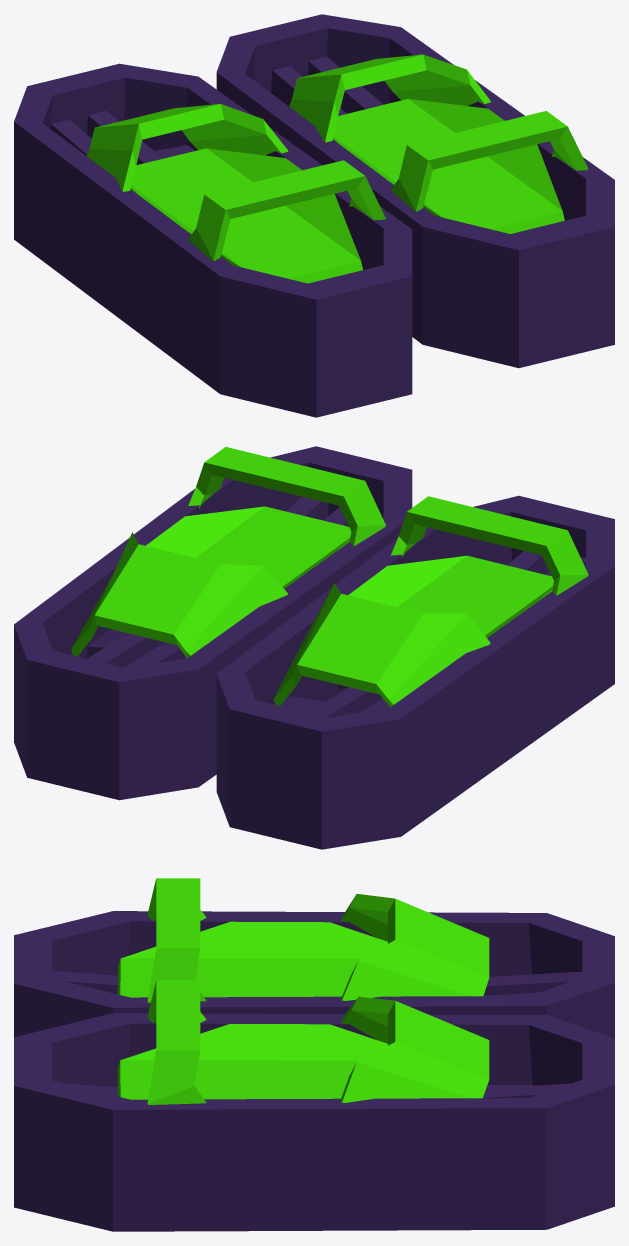
Rendered from LunarSchoes.fbx.
The picture shows the model from 3 angles, top to bottom: view 1: azimuth 30°, elevation 25°; view 2: azimuth 150°, elevation 25°; view 3: azimuth 270°, elevation 25°; orthographic projection. The views are drawn at different scales.
Visible parts, largest first — view 1: LunarSchoes; view 2: LunarSchoes; view 3: LunarSchoes.
Boxes of the visible parts, x1,y1,x2,y2 form: LunarSchoes: (14, 14, 614, 417); LunarSchoes: (14, 446, 614, 849); LunarSchoes: (14, 878, 614, 1231).
Size of the model in its own units: 0.2098 by 0.1643 by 0.0647.
